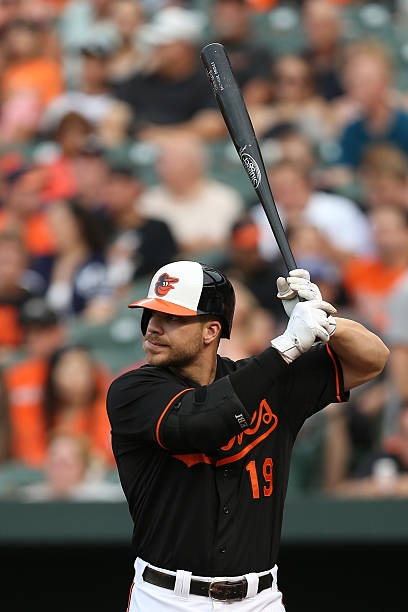bita: (204, 38, 319, 325)
